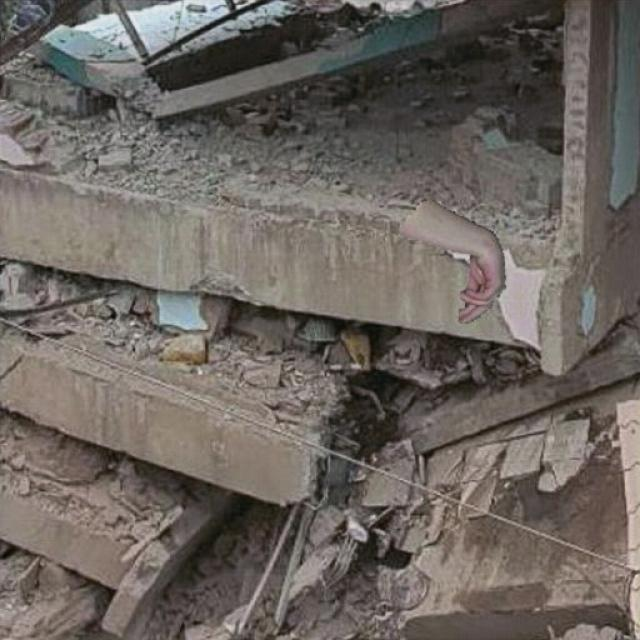Person in Rubble: (399, 202, 505, 322)
